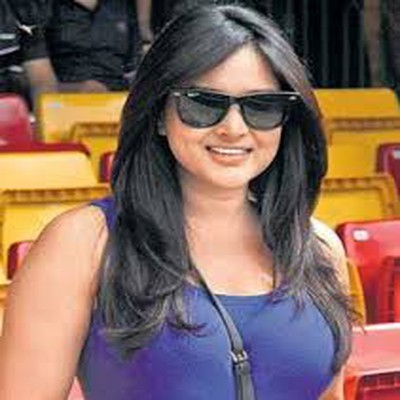eywear: (162, 62, 320, 156)
